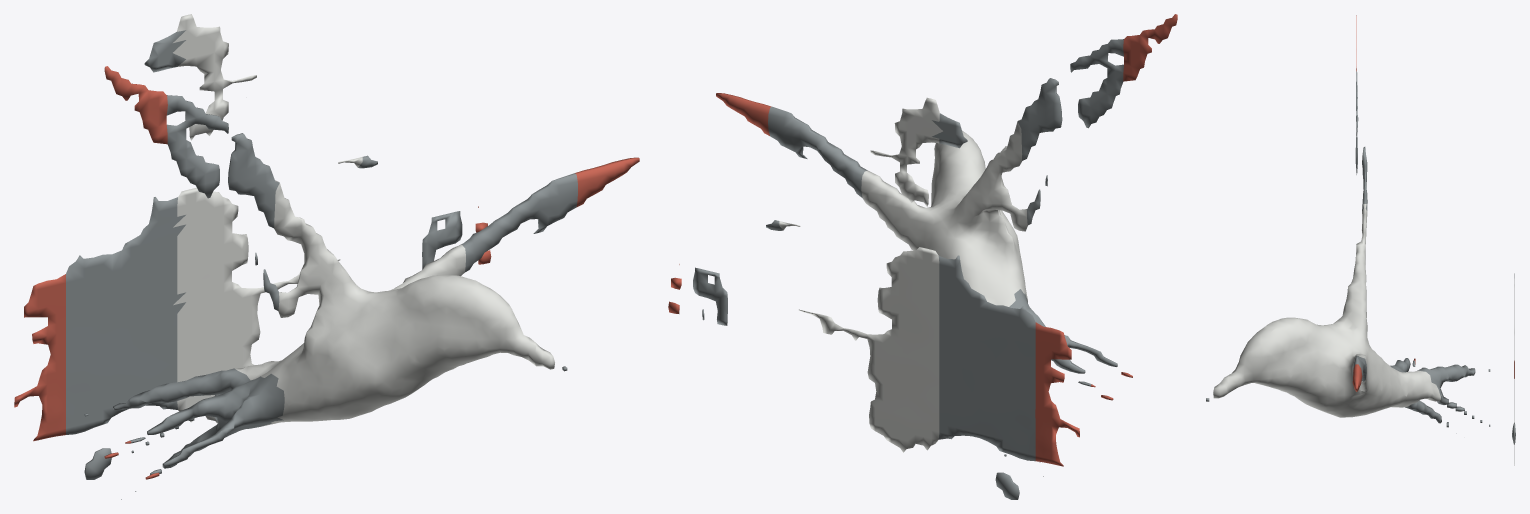
File: gliding_00.glb
3 views of the same model, side by side, from view 1: azimuth 30°, elevation 25°; view 2: azimuth 150°, elevation 25°; view 3: azimuth 270°, elevation 25° (orthographic). The views are drawn at different scales.
Visible parts, largest first — view 1: common_tern_voxel_remeshed_gliding_00; view 2: common_tern_voxel_remeshed_gliding_00; view 3: common_tern_voxel_remeshed_gliding_00.
Part boxes in pixels (left/top/right/bottom): common_tern_voxel_remeshed_gliding_00: left=14, top=14, right=639, bottom=499; common_tern_voxel_remeshed_gliding_00: left=668, top=14, right=1177, bottom=499; common_tern_voxel_remeshed_gliding_00: left=1206, top=15, right=1515, bottom=465.
Size of the model in its own units: 1.13 by 1.03 by 0.7341.
